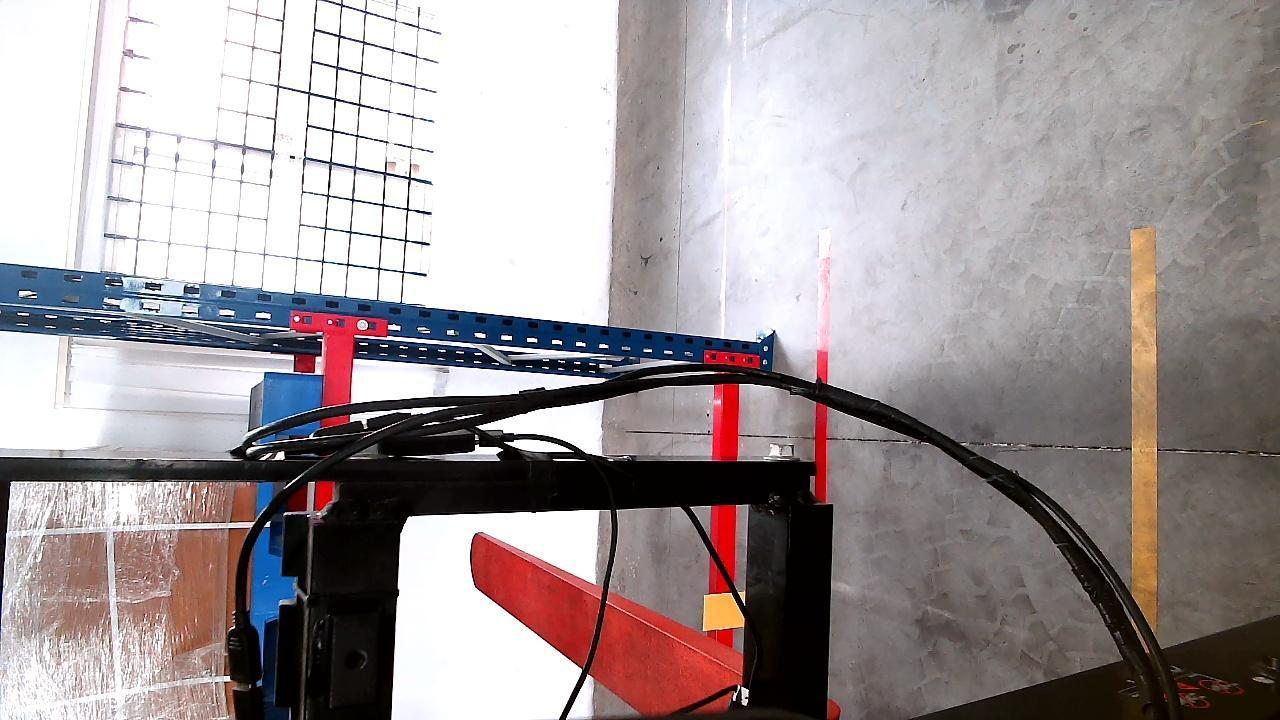red_line: (812, 239, 835, 502)
yellow_line: (1129, 219, 1161, 643)
